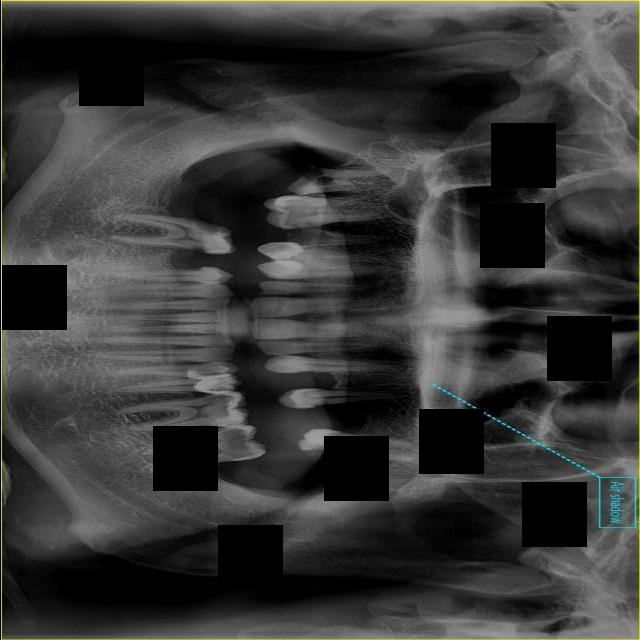Sterngold Implant: (215, 422, 258, 464), (286, 220, 335, 256), (277, 198, 320, 231), (286, 163, 325, 198), (183, 216, 230, 241), (201, 392, 236, 424), (301, 438, 340, 460), (175, 236, 211, 253), (312, 399, 333, 407), (180, 267, 203, 274), (222, 421, 236, 429)
Straumann Implant: (192, 372, 238, 398), (258, 257, 305, 281), (257, 239, 303, 262), (185, 362, 229, 380)
